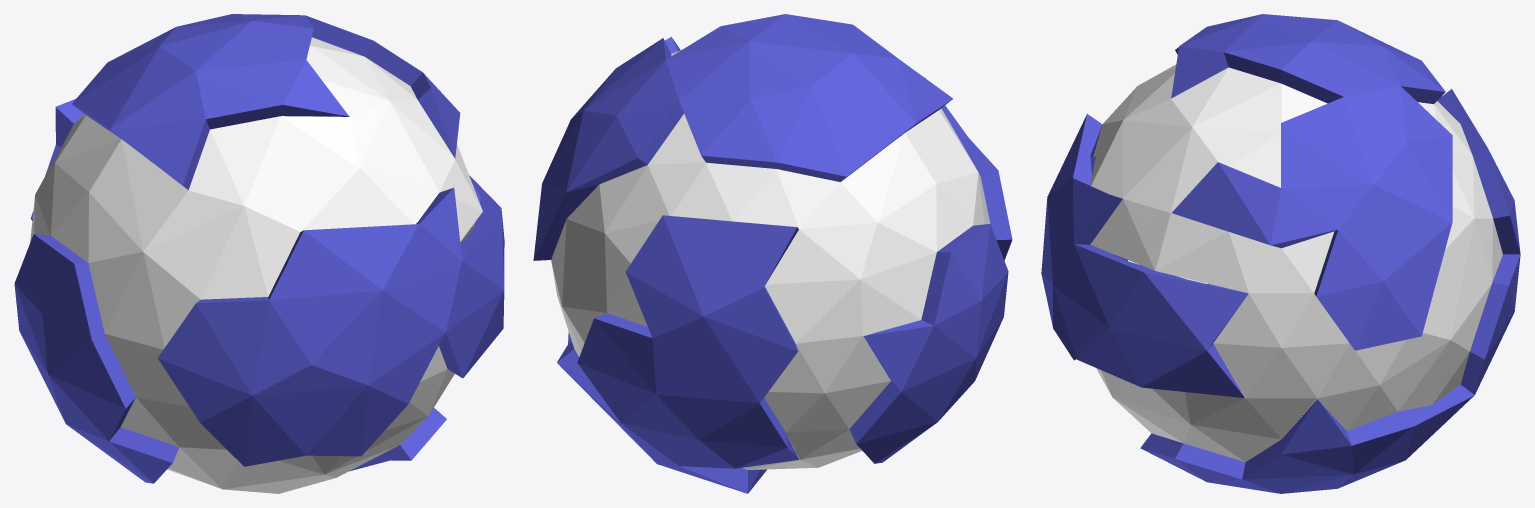
The model's file is dottxt2.glb.
3 views of the same model, side by side, from view 1: azimuth 30°, elevation 25°; view 2: azimuth 150°, elevation 25°; view 3: azimuth 270°, elevation 25° (orthographic). The views are drawn at different scales.
Parts seen in each view (by area): view 1: Icosphère.001, Icosphère; view 2: Icosphère.001, Icosphère; view 3: Icosphère.001, Icosphère.
Boxes of the visible parts, x1=… form: Icosphère.001: x1=14, y1=14, x2=504, y2=483; Icosphère: x1=30, y1=37, x2=482, y2=493; Icosphère.001: x1=533, y1=14, x2=1012, y2=493; Icosphère: x1=551, y1=50, x2=990, y2=469; Icosphère.001: x1=1041, y1=14, x2=1520, y2=493; Icosphère: x1=1090, y1=64, x2=1502, y2=462.
Bounding box in the file's own units: 2.12 × 2.18 × 2.16.
